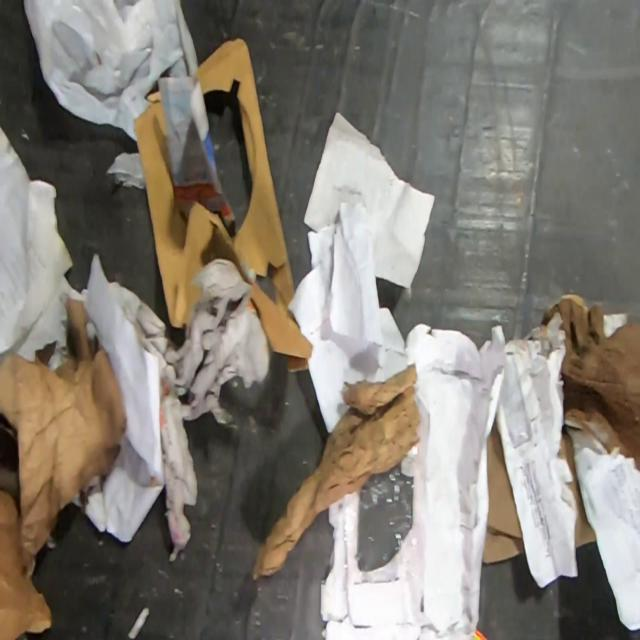cardboard: (133, 38, 314, 372), (252, 364, 423, 582), (0, 297, 128, 578), (548, 294, 640, 473), (0, 490, 53, 639), (482, 415, 526, 564), (558, 425, 598, 549)
soft_plastic: (22, 0, 199, 143), (334, 442, 426, 592)
